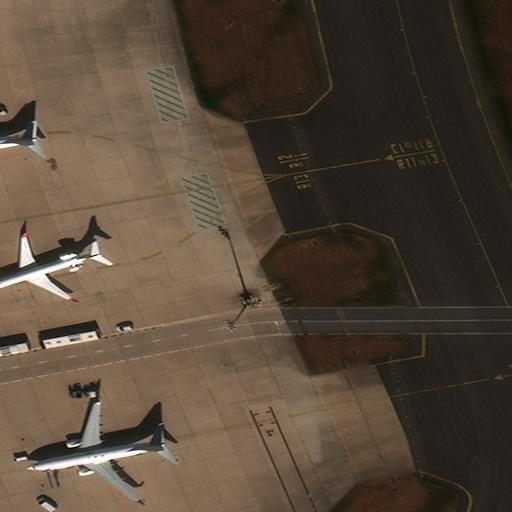Medium Civil Transport: (27, 403, 165, 502), (0, 234, 100, 300)
